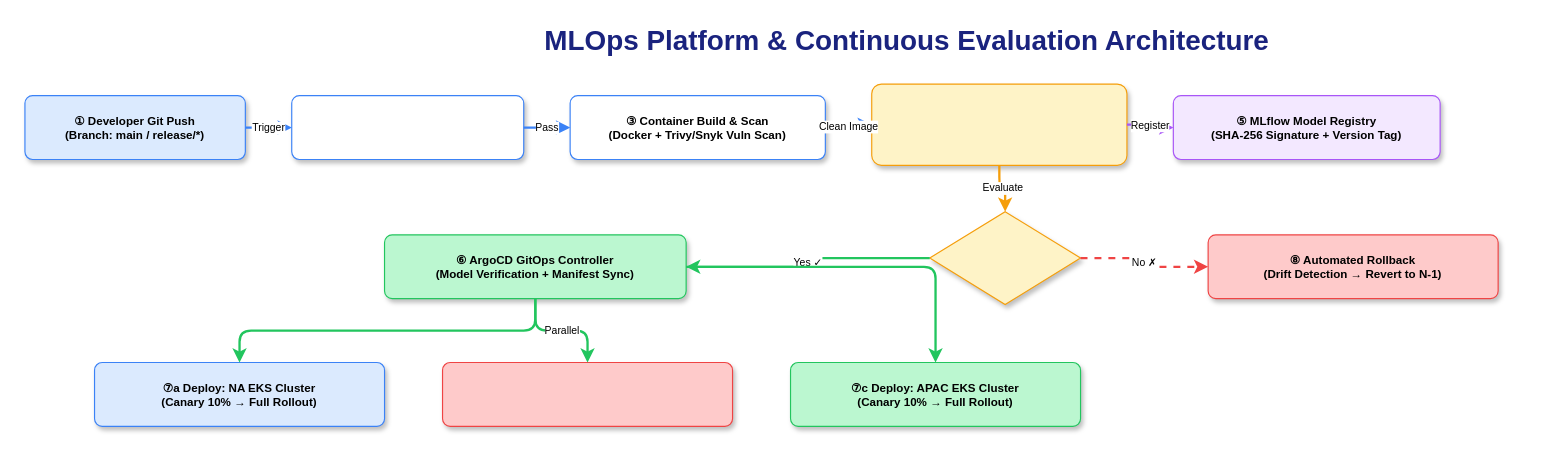
Some shapes in this 1565 by 455 pixel diagram are drawn without their labels. The centre of each missing label's shape, as x and y in pixels:
"Score ≥ 0.92?" belongs at point (1006, 259).
"② CI: Static Analysis (Ruff + Bandit + Semgrep)" belongs at point (408, 129).
"④ Ragas Quality Gate (Faithfulness > 0.92 Context Precision > 0.90)" belongs at point (1000, 125).
"⑦b Deploy: EU AKS Cluster (Blue/Green Sovereign Deploy)" belongs at point (588, 395).
